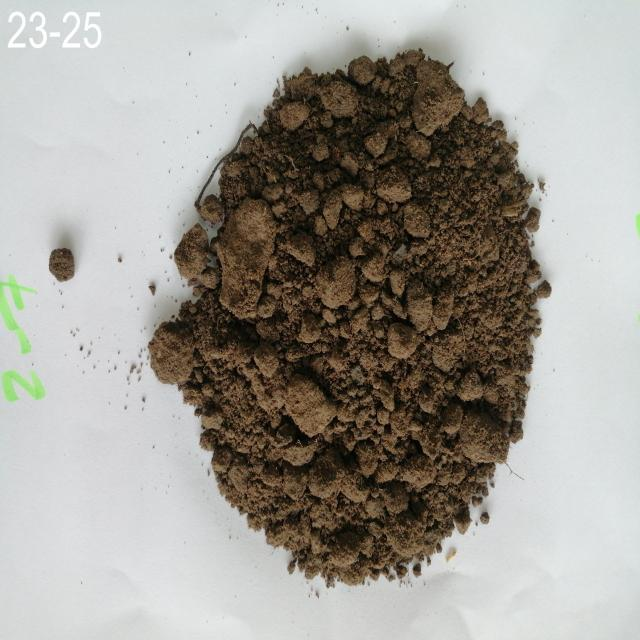soil: (254, 149, 479, 508)
